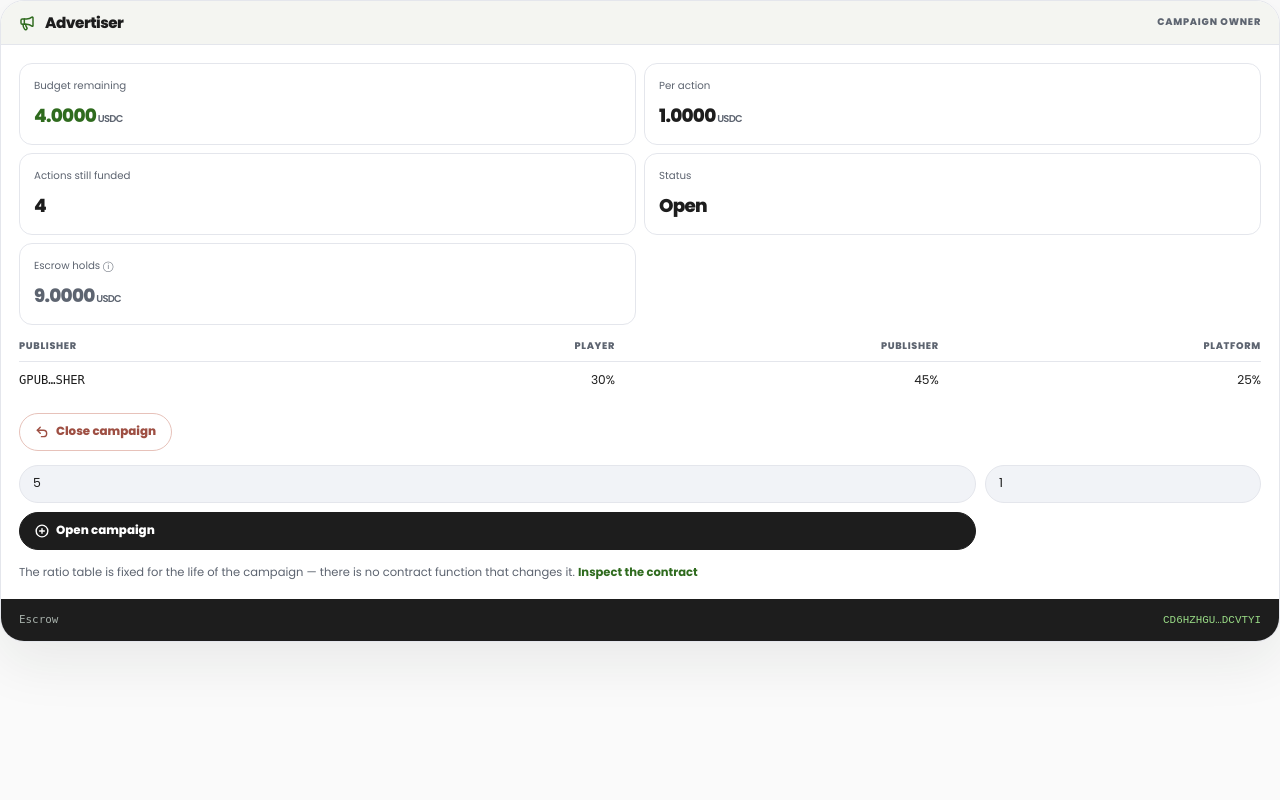
Test: advertiser panel › surfaces a refusal rather than reporting a campaign that was never opened
Expected: the text "Budget remaining" is shown, [34,78,126,93]
Click the button "Open campaign".
click(105, 530)  # box [19,512,976,550]
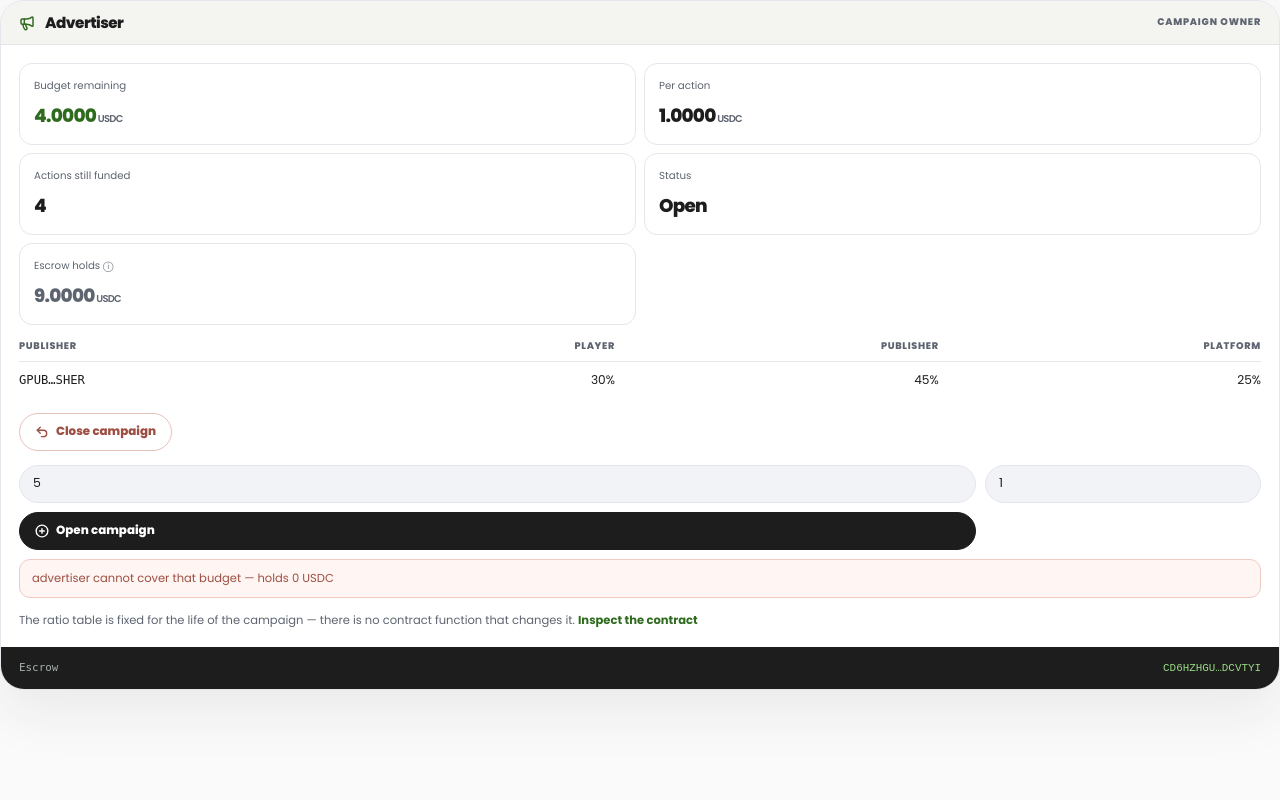
Now the text "advertiser cannot cover that budget — holds 0 USDC" is shown, box [19,558,1261,598]
